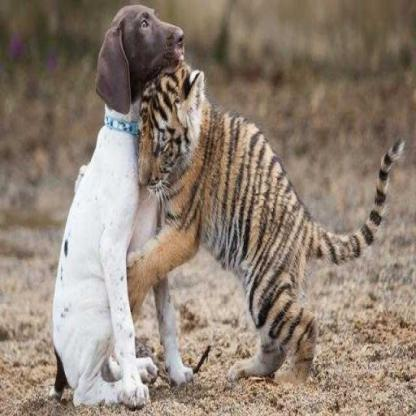Tiger: (149, 67, 406, 332)
